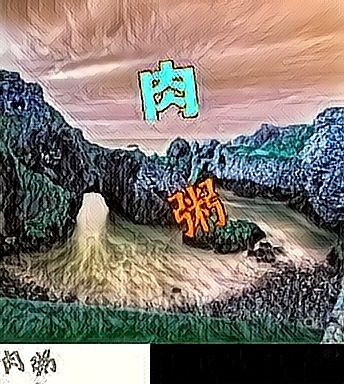C8E2: (138, 59, 200, 123)
D6E0: (165, 178, 227, 242)
